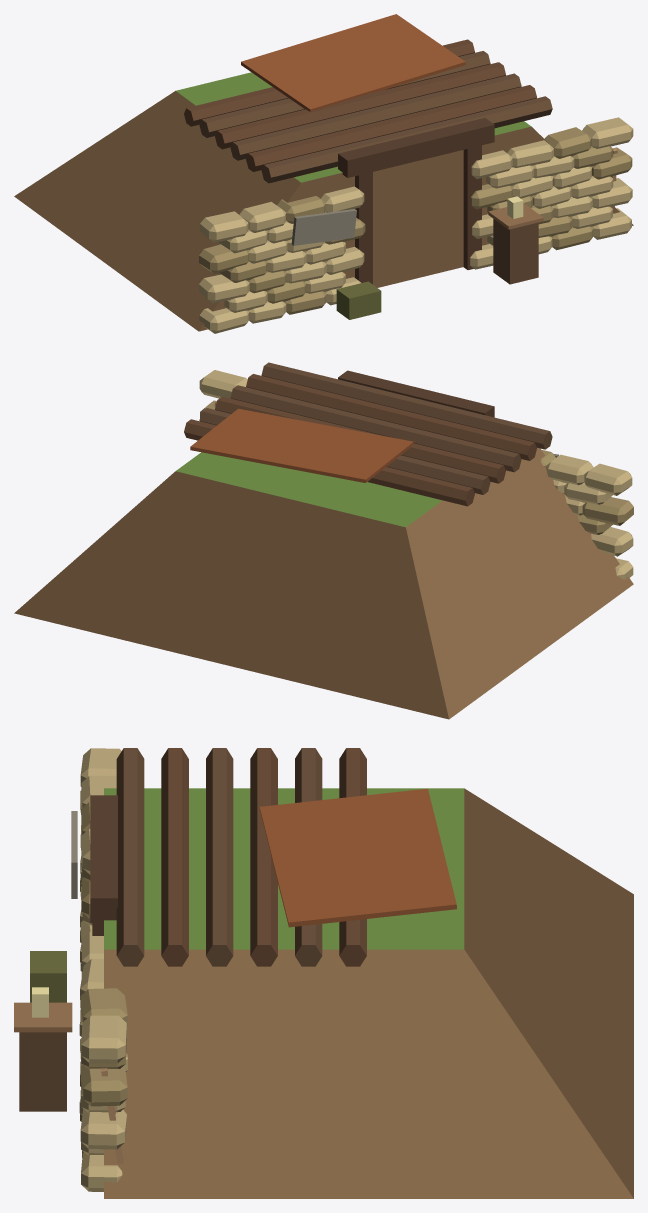
Rendered from trench_dugout.glb.
3 renders of one model, top to bottom at view 1: azimuth 30°, elevation 25°; view 2: azimuth 150°, elevation 25°; view 3: azimuth 270°, elevation 25°, orthographic. The views are drawn at different scales.
Parts seen in each view (by area): view 1: LOD0; view 2: LOD0; view 3: LOD0.
Part boxes in pixels (bbox=[...]): LOD0: bbox=[14, 14, 633, 333]; LOD0: bbox=[14, 362, 633, 719]; LOD0: bbox=[14, 748, 633, 1198].
Bounding box in the file's own units: 6.8 × 2.25 × 5.85.
1 material, 1 textured.
